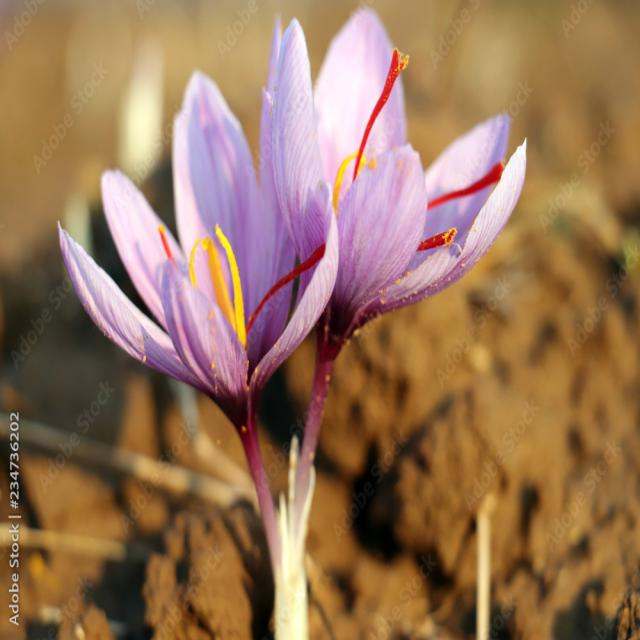saffron open: (60, 71, 338, 564), (272, 9, 526, 506)
